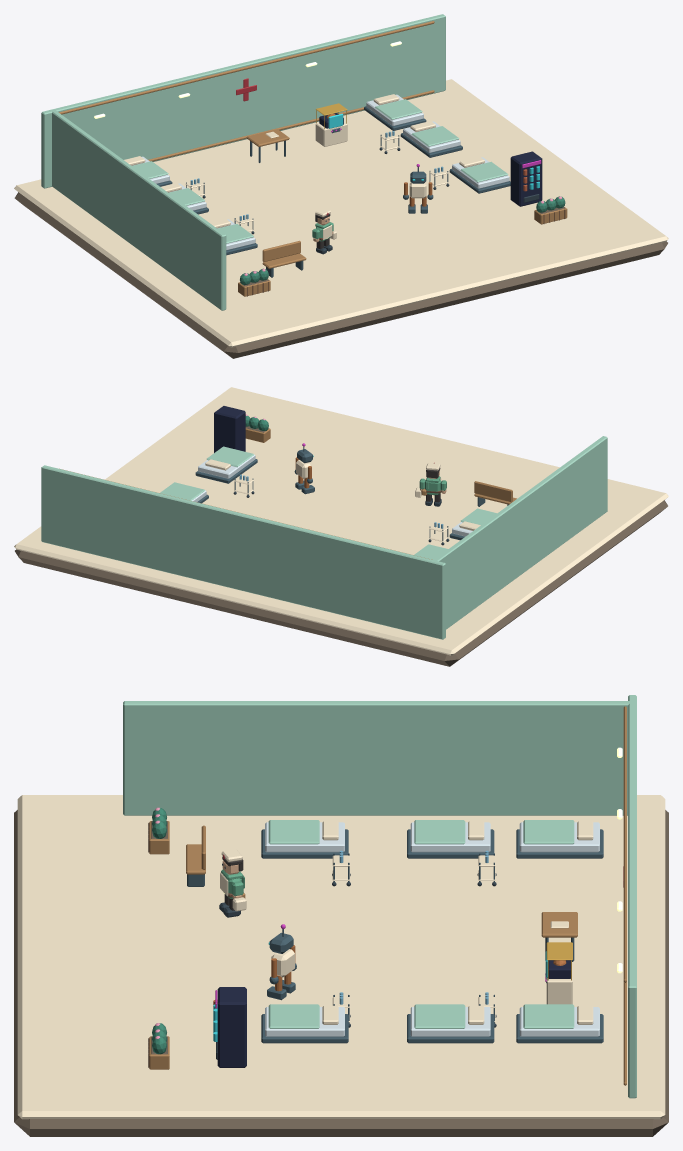
The model's file is world-hospital.glb.
3 views of the same model, one above another, from view 1: azimuth 30°, elevation 25°; view 2: azimuth 150°, elevation 25°; view 3: azimuth 270°, elevation 25° (orthographic). The views are drawn at different scales.
Visible parts, largest first — view 1: terrain-top, rear-wall, side-wall, terrain-stratum, vending-body.001, interior-trim.001, interior-trim, display-plinth.001, blanket.003, blanket.004, blanket.005, bench-back.001; view 2: terrain-top, rear-wall, side-wall, terrain-stratum, vending-body.001, blanket.003, bench-back.001, blanket.004, mattress.003; view 3: terrain-top, side-wall, terrain-stratum, rear-wall, vending-body.001, blanket.001, blanket.003, blanket.004, blanket.005, blanket, blanket.002, mattress.002 (+14 smaller).
Boxes of the visible parts, bbox=[...] form: terrain-top: bbox=[14, 79, 668, 347]; rear-wall: bbox=[41, 14, 445, 188]; side-wall: bbox=[52, 110, 226, 310]; terrain-stratum: bbox=[14, 192, 667, 358]; vending-body.001: bbox=[510, 151, 542, 206]; interior-trim.001: bbox=[59, 21, 434, 114]; interior-trim: bbox=[148, 90, 434, 161]; display-plinth.001: bbox=[315, 122, 347, 146]; blanket.003: bbox=[461, 161, 508, 182]; blanket.004: bbox=[411, 126, 459, 146]; blanket.005: bbox=[375, 99, 422, 119]; bench-back.001: bbox=[262, 240, 300, 261]; terrain-top: bbox=[14, 387, 668, 655]; rear-wall: bbox=[41, 465, 445, 639]; side-wall: bbox=[433, 436, 607, 629]; terrain-stratum: bbox=[15, 500, 667, 666]; vending-body.001: bbox=[214, 406, 245, 452]; blanket.003: bbox=[206, 446, 253, 467]; bench-back.001: bbox=[474, 481, 512, 502]; blanket.004: bbox=[160, 482, 205, 500]; mattress.003: bbox=[198, 454, 255, 478]; terrain-top: bbox=[17, 795, 665, 1119]; side-wall: bbox=[123, 701, 630, 815]; terrain-stratum: bbox=[14, 810, 668, 1136]; rear-wall: bbox=[628, 695, 636, 1098]; vending-body.001: bbox=[217, 987, 246, 1067]; blanket.001: bbox=[414, 820, 465, 844]; blanket.003: bbox=[268, 1004, 319, 1028]; blanket.004: bbox=[414, 1004, 465, 1028]; blanket.005: bbox=[523, 1004, 574, 1028]; blanket: bbox=[268, 820, 319, 844]; blanket.002: bbox=[523, 820, 574, 844]; mattress.002: bbox=[519, 822, 599, 852].
Bounding box in the file's own units: 21 × 4.29 × 18.
